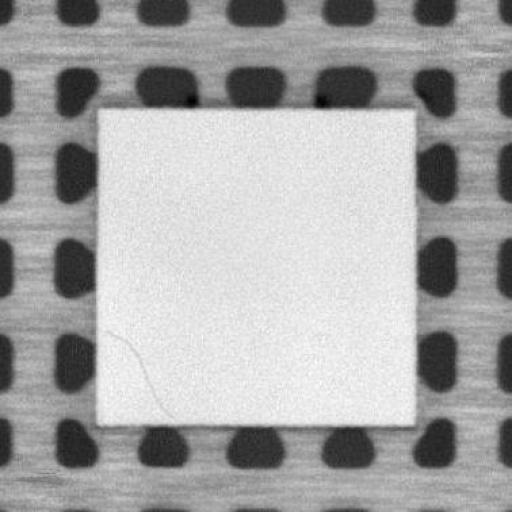DIE_CRACK: (107, 331, 172, 419)
